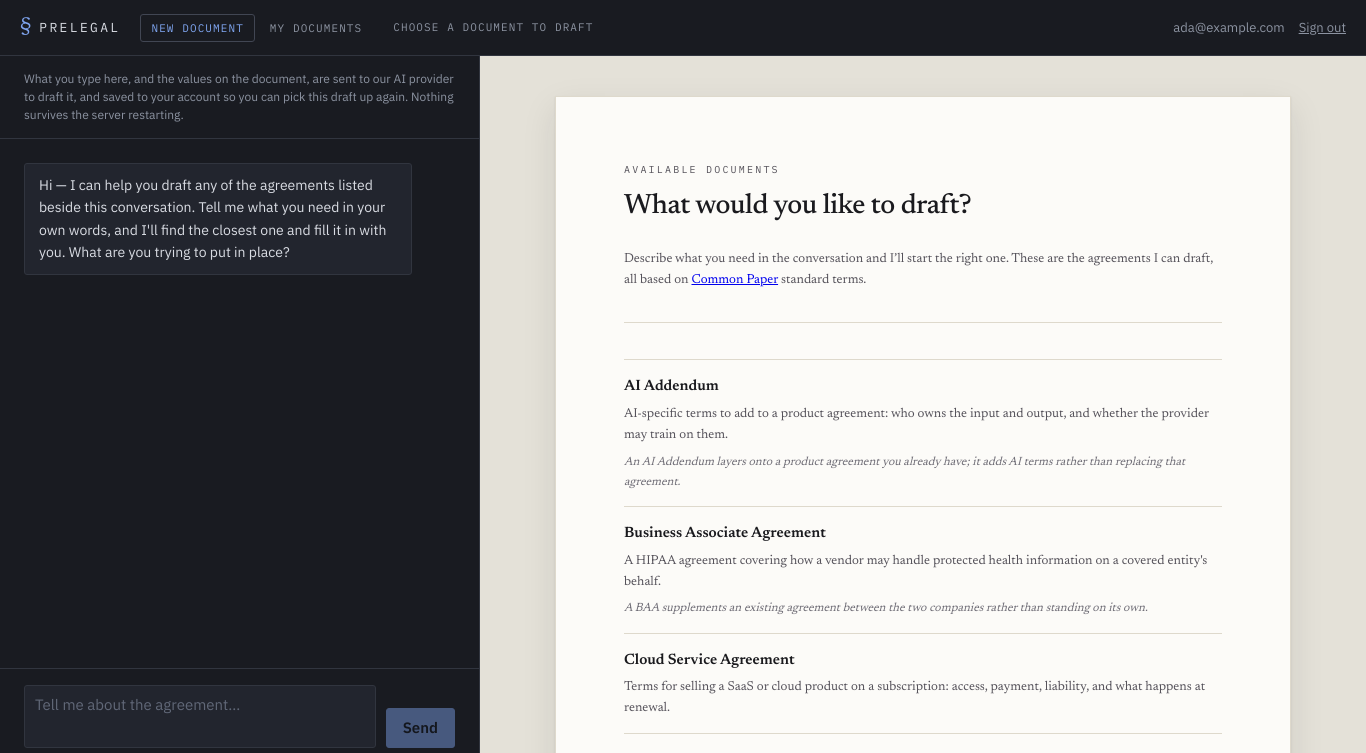
DocumentWorkspace › a generically rendered document › writes an answer into the clause that cites it
The width and height of the screenshot is (1366, 753).
Type "We want a 30 day trial." into the text box named "Your message".
click(200, 716); type("We want a 30 day trial.")  # box 24,685 -> 376,748
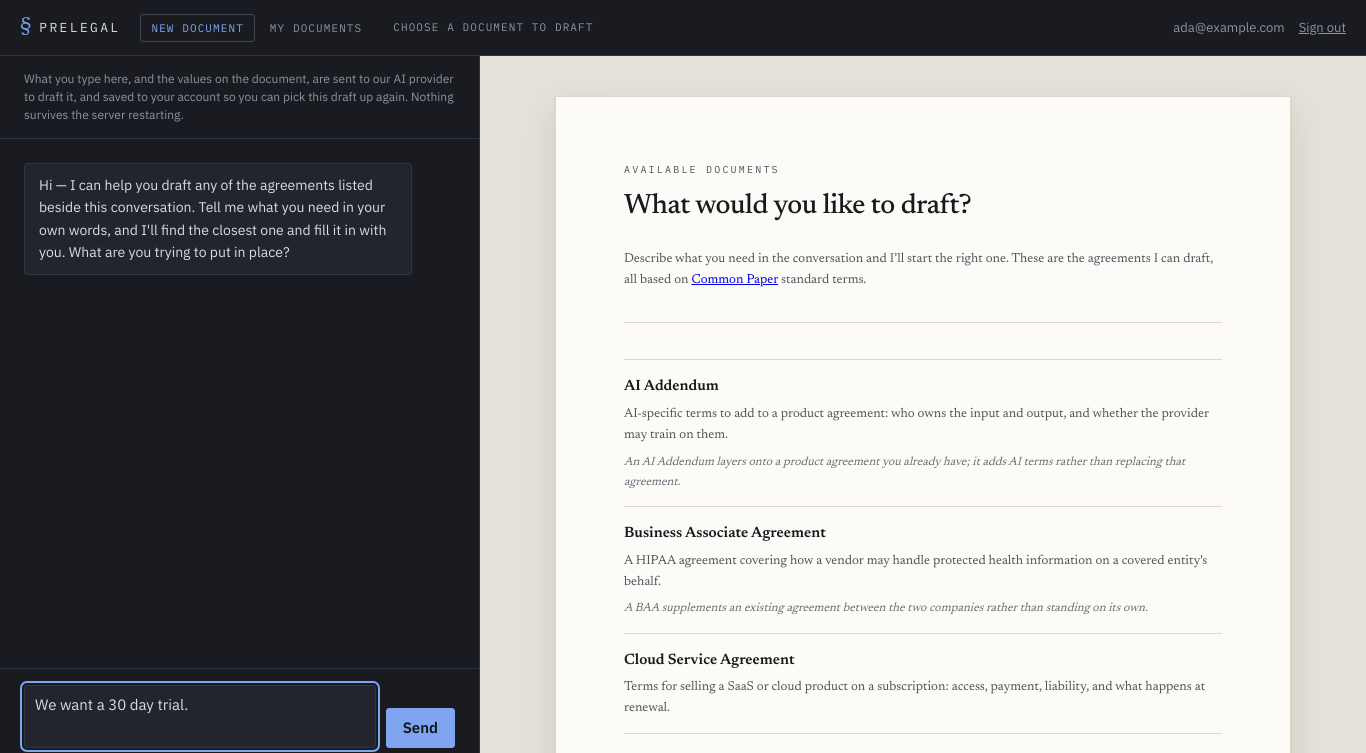
Click the button "Send".
click(420, 728)  # box 386,708 -> 455,748
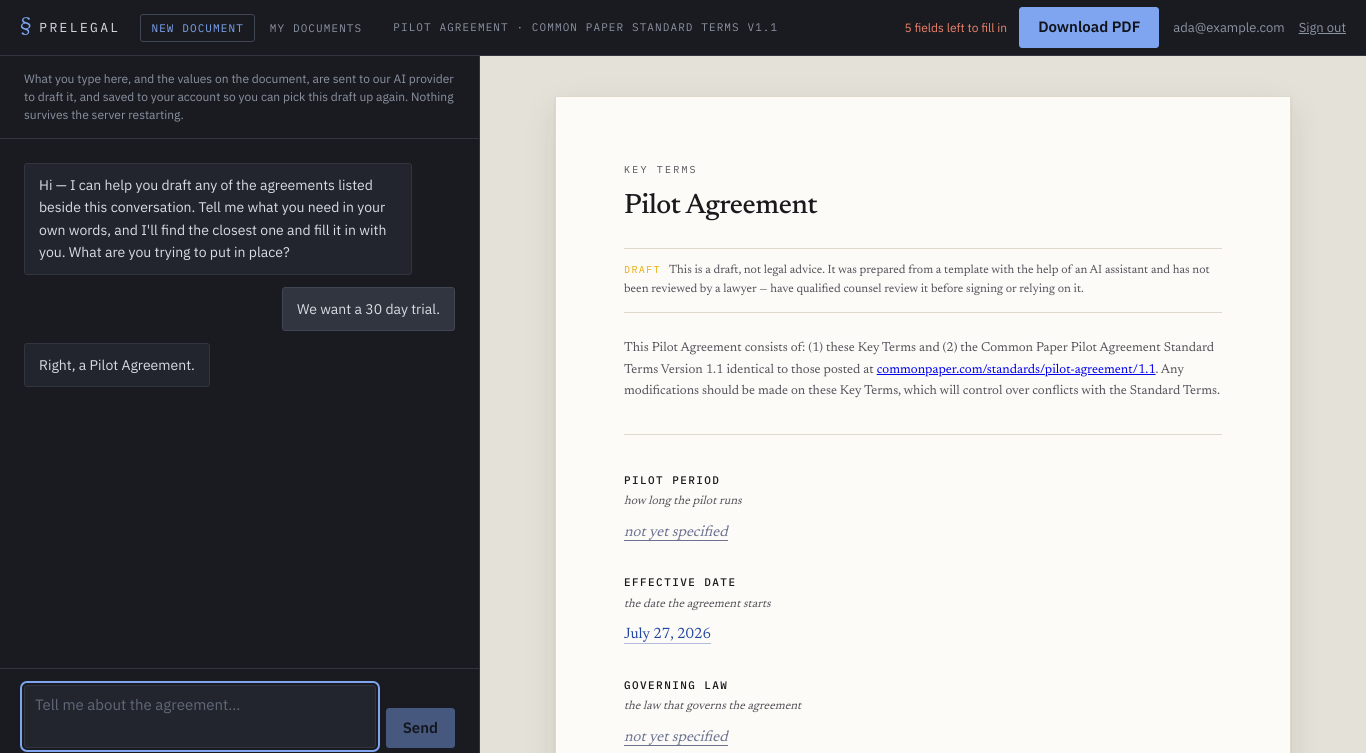
Result: the text "Right, a Pilot Agreement." is shown at 24,343 -> 210,387
Type "Sixty days." into the text box named "Your message".
click(200, 716); type("Sixty days.")  # box 24,685 -> 376,748
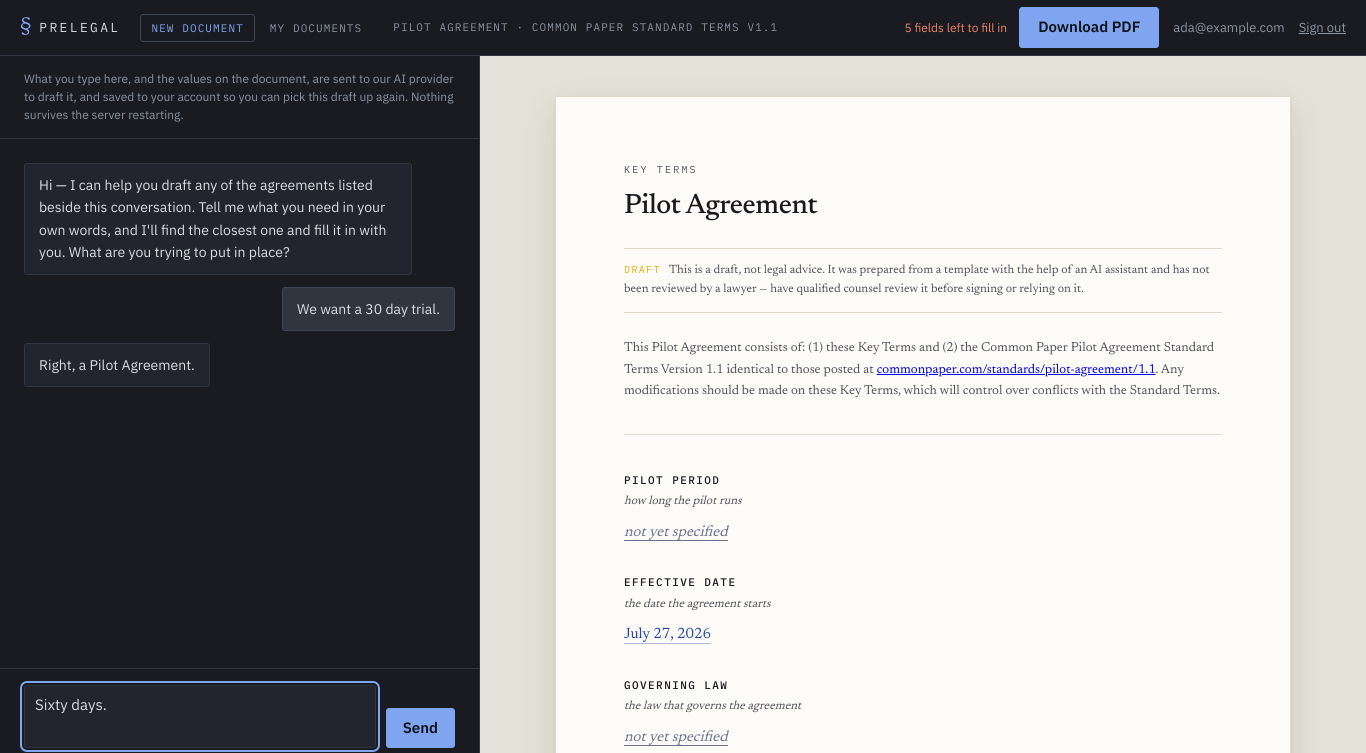
Click the button "Send".
click(420, 728)  # box 386,708 -> 455,748
(page scrolled)
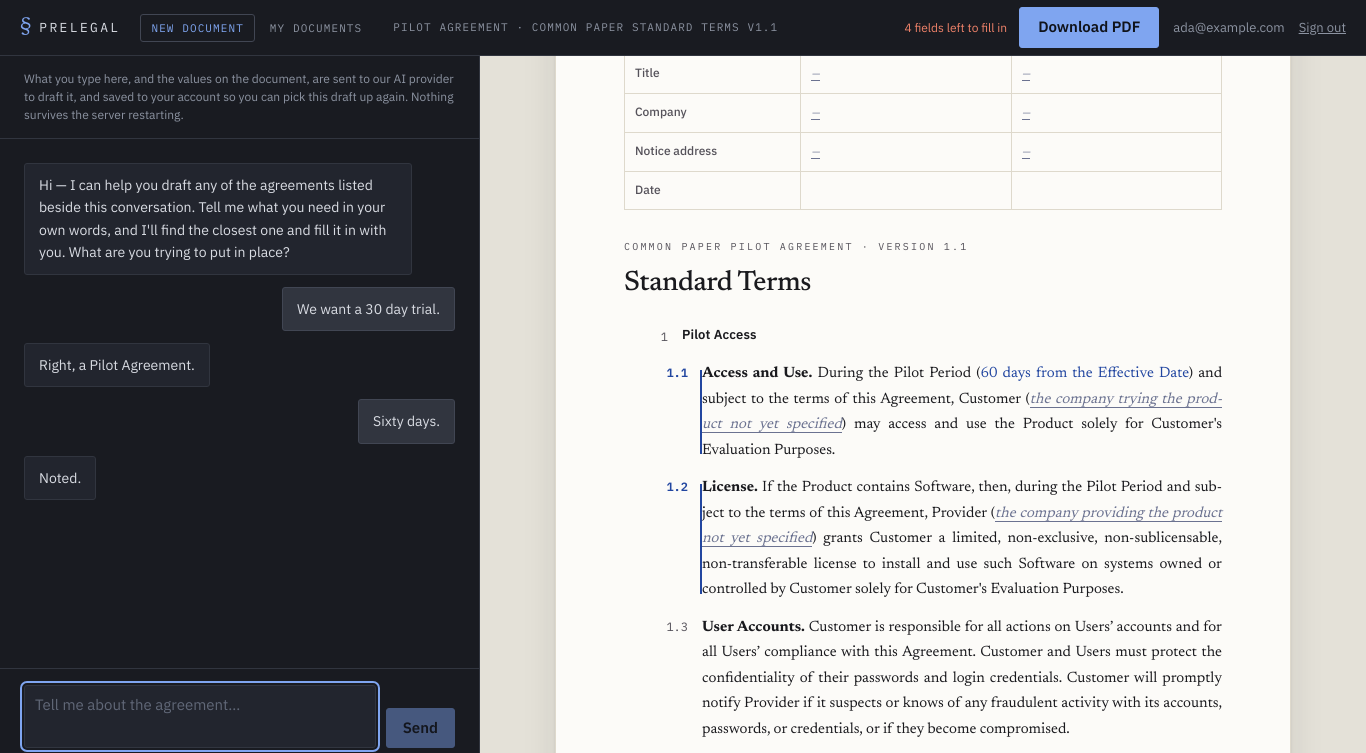
Result: the text "Noted." is shown at 24,456 -> 96,500
Result: the list item with class "clause" shows "60 days from the Effective Date" at 980,366 -> 1189,381
